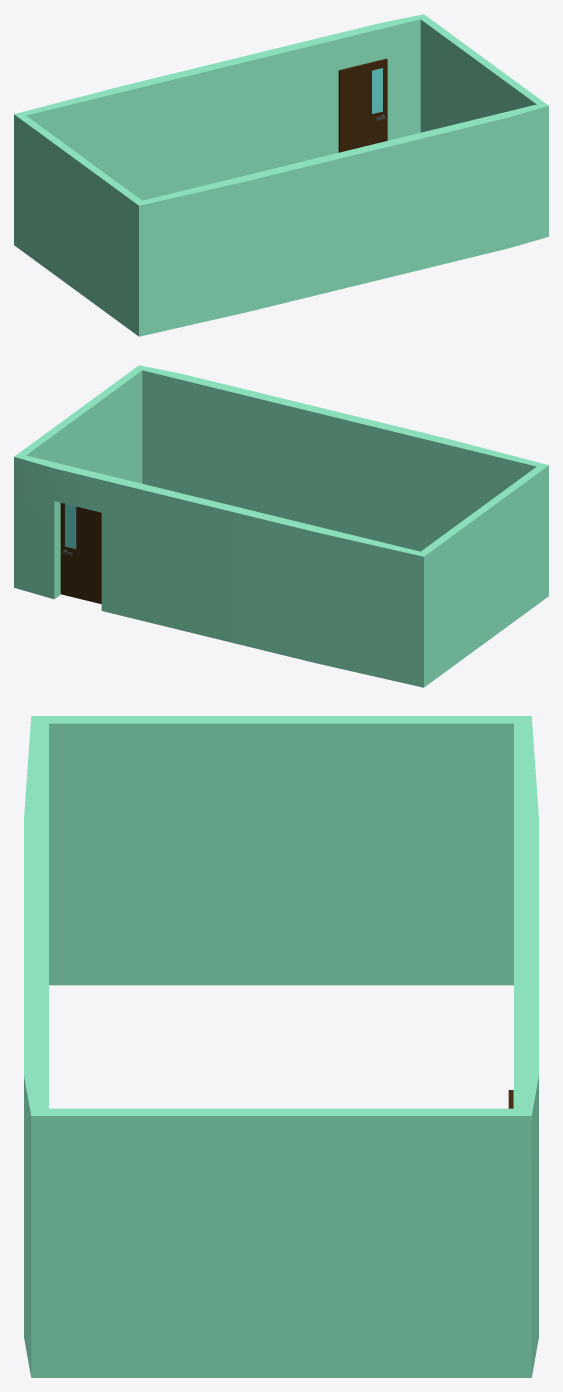
File: ClosedRoom.FBX
3 views of the same model, one above another, from view 1: azimuth 30°, elevation 25°; view 2: azimuth 150°, elevation 25°; view 3: azimuth 270°, elevation 25° (orthographic). The views are drawn at different scales.
Parts seen in each view (by area): view 1: Box003, Door01; view 2: Box003, Door01; view 3: Box003.
Boxes of the visible parts, x1=… form: Box003: x1=14, y1=14, x2=548, y2=336; Door01: x1=338, y1=58, x2=387, y2=152; Box003: x1=14, y1=365, x2=548, y2=687; Door01: x1=60, y1=503, x2=101, y2=603; Box003: x1=24, y1=716, x2=538, y2=1377.
Bounding box in the file's own units: 29.66 × 9.06 × 16.14.
